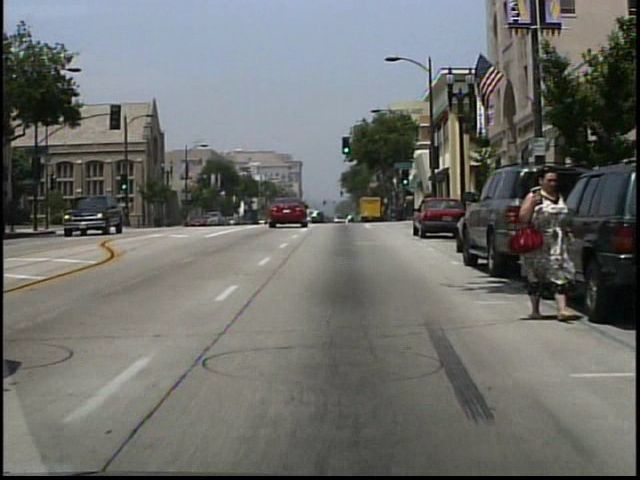person: (515, 159, 585, 322)
